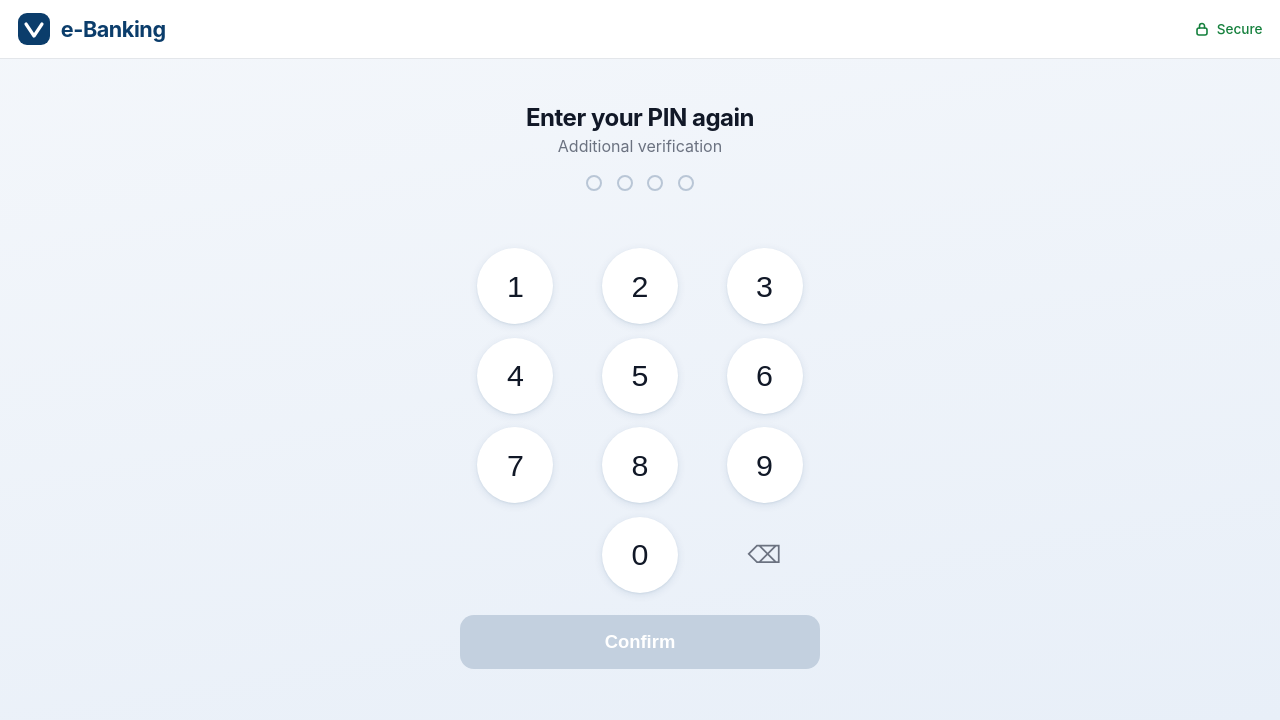
Test: Mobile › capteur muet : message neutre, rien n’est envoyé
What coordinates should you click on to do the following:
click the button "1"
I would click on:
 (516, 286)
Its box is top-left (478, 248), bottom-right (554, 324).
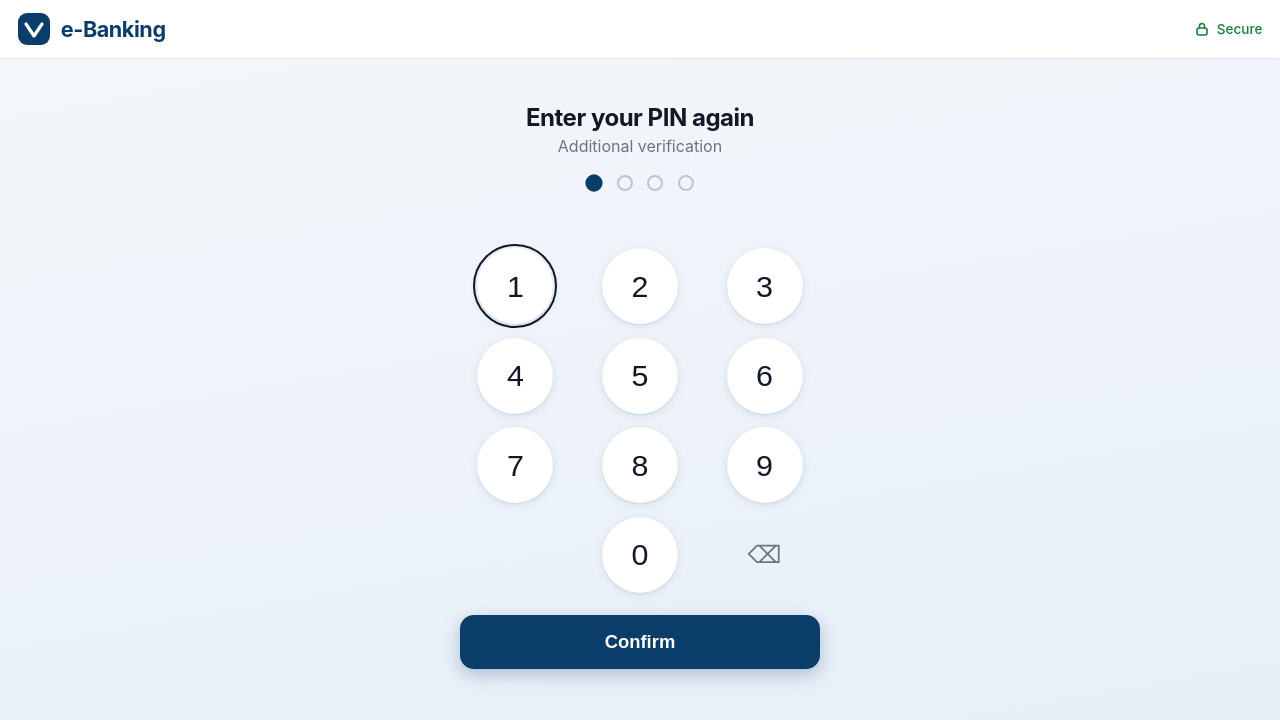
What coordinates should you click on to do the following:
click the button "2"
I would click on:
 (640, 286)
Its box is top-left (602, 248), bottom-right (678, 324).
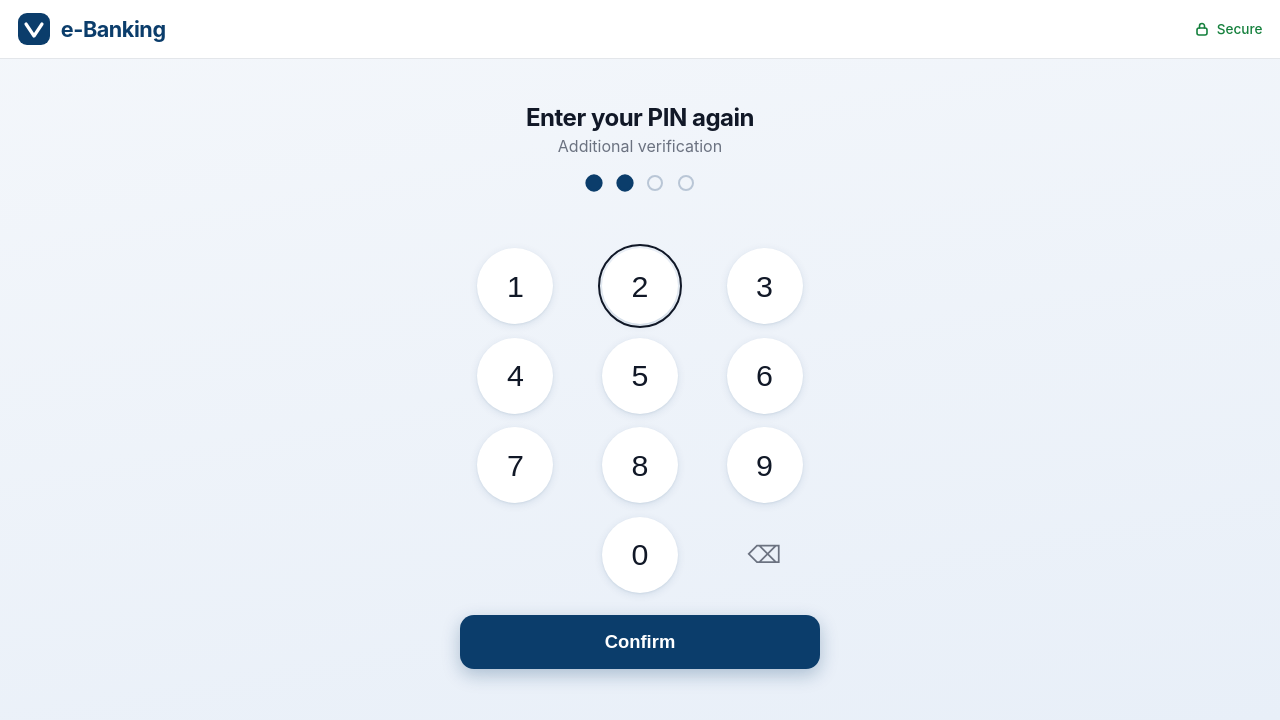
What coordinates should you click on to do the following:
click the button "Confirm"
I would click on:
 (640, 642)
Its box is top-left (460, 615), bottom-right (820, 669).
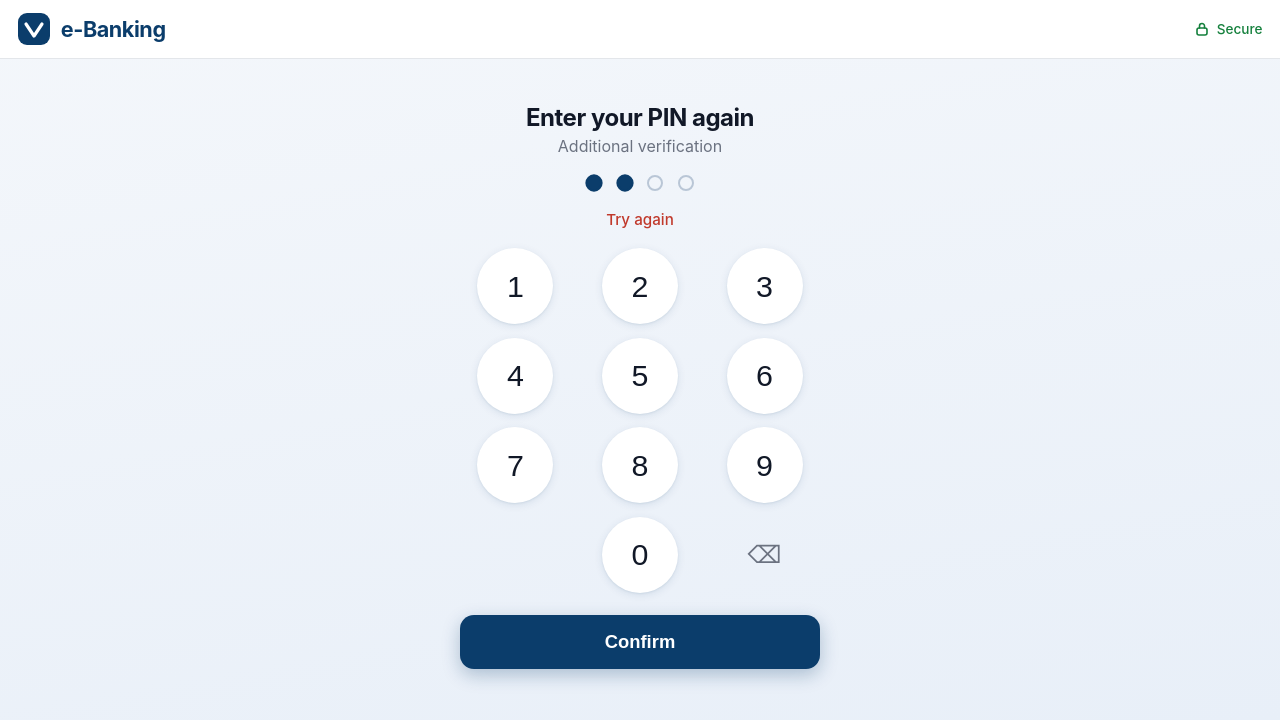
Result: the text "Try again" is shown at top-left (606, 210), bottom-right (674, 232)
